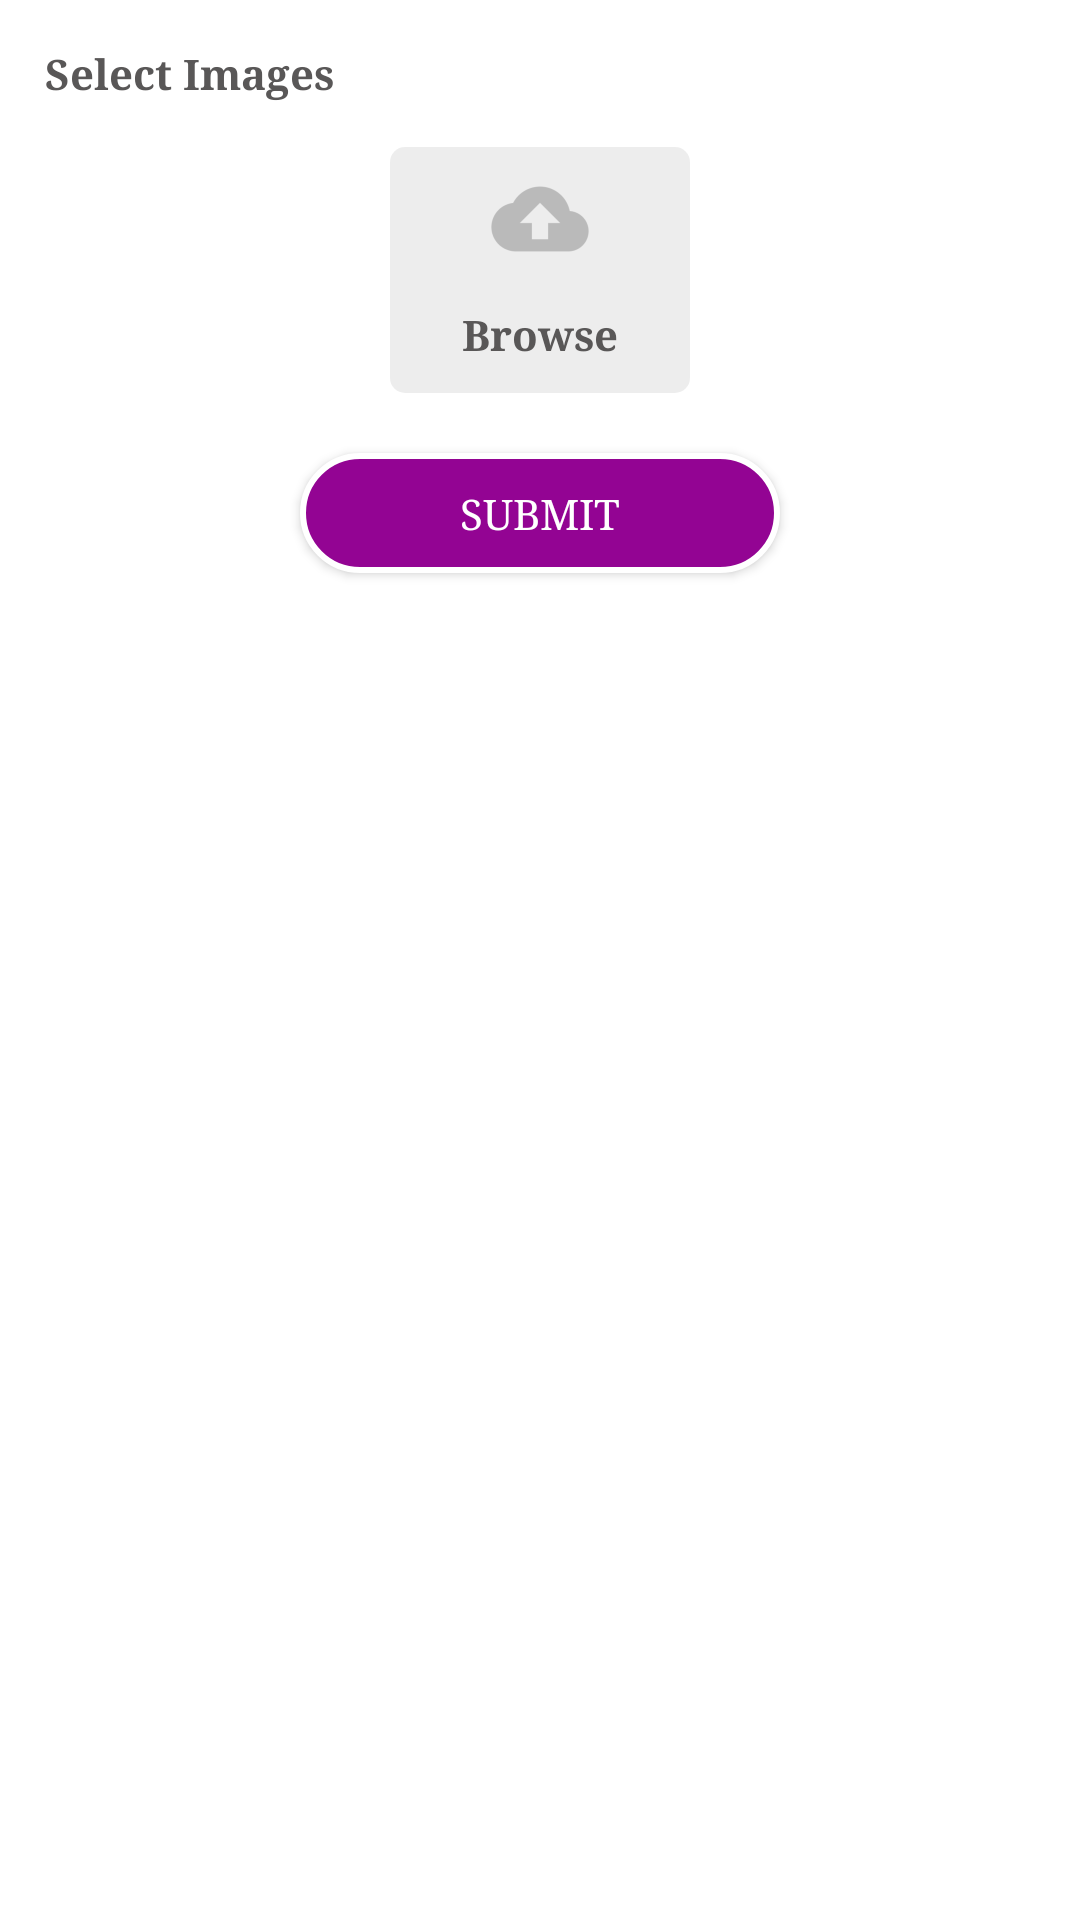

Named icons in this screenshot (1080*1920) and their centers, (x,y):
upload: (540,219)
